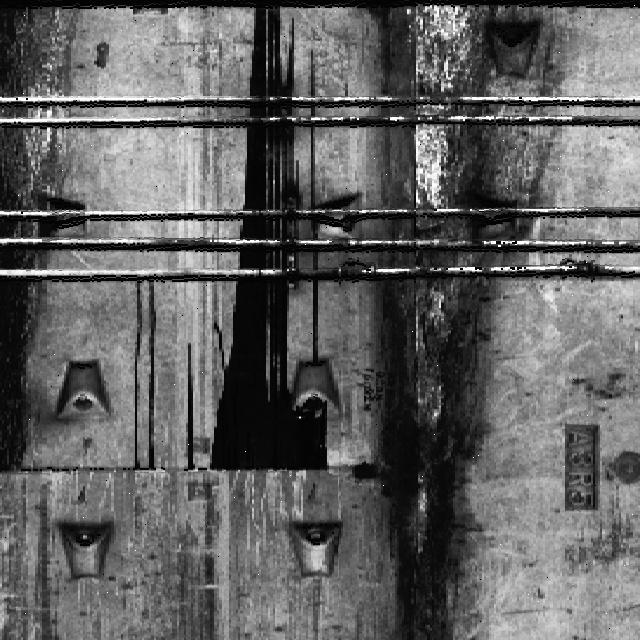leakage: (367, 9, 556, 640), (209, 4, 350, 474), (1, 1, 67, 475), (132, 281, 165, 472), (180, 342, 201, 474)
